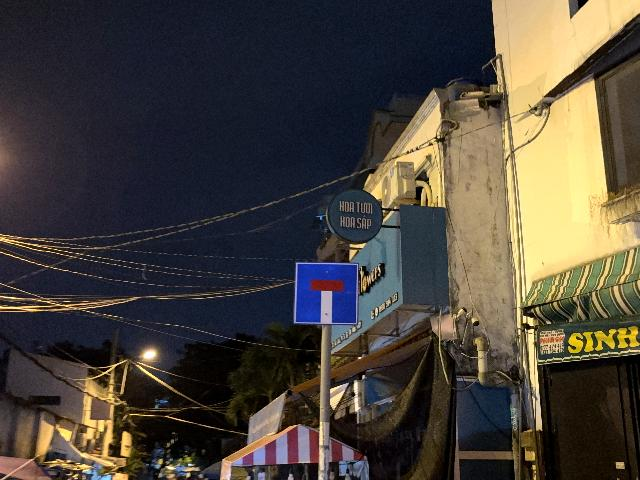duong-cut: (294, 262, 358, 325)
